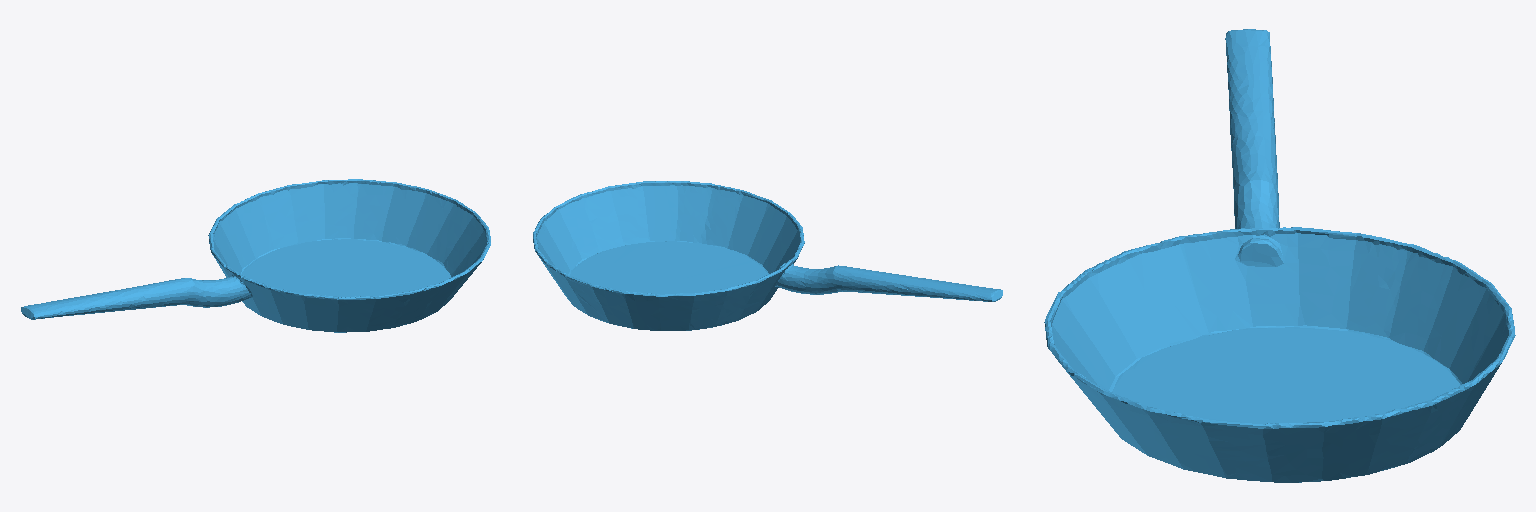
robot.urdf — Pan_a5e0efaaf0ded23e88d29413a3dd87fd_M:
<?xml version="1.0"?>
<robot name="Pan_a5e0efaaf0ded23e88d29413a3dd87fd_M">
  <link name="base"/>
  <link name="link_0">
  <visual>
    <origin xyz="0.0 0.0 0.0"/>
    <geometry>
      <mesh filename="Pan_a5e0efaaf0ded23e88d29413a3dd87fd_M.obj" scale="1.0 1.0 1.0"/>
    </geometry>
  </visual>
  <collision>
    <origin xyz="0.0 0.0 0.0"/>
    <geometry>
      <mesh filename="collision.obj" scale="1.0 1.0 1.0"/>
    </geometry>
  </collision>
  </link>
  <joint name="joint_0" type="fixed">
    <origin rpy="0 0 0" xyz="0 0 0"/>
    <child link="link_0"/>
    <parent link="base"/>
  </joint>
</robot>

--- Facts derived from the render (not from the file) ---
Views: 3 orthographic renders of the robot side by side, from view 1: azimuth 30°, elevation 25°; view 2: azimuth 150°, elevation 25°; view 3: azimuth 270°, elevation 25°.
Robot: Pan_a5e0efaaf0ded23e88d29413a3dd87fd_M — 2 links, 1 joints (1 fixed); root link base; default pose: all joints at 0.
Visible links, largest first — view 1: link_0; view 2: link_0; view 3: link_0.
Link boxes in pixels (x1,y1,x2,y2): link_0: (21, 179, 490, 332); link_0: (533, 181, 1002, 330); link_0: (1044, 29, 1515, 482).
Size in the robot's own frame: 0.3043 by 0.1631 by 0.0424 metres.
Meshes: 1 distinct files referenced, 1 mesh visuals loaded (1 OBJ).